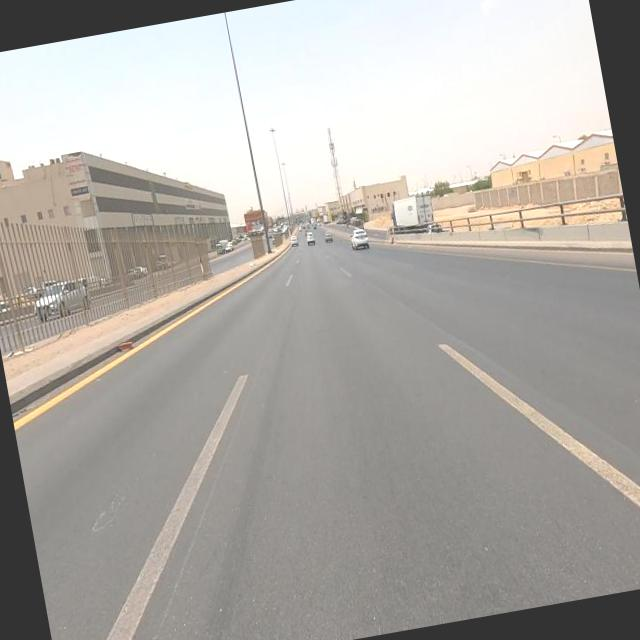debris: (102, 320, 146, 370), (374, 217, 408, 266), (236, 244, 266, 286)
